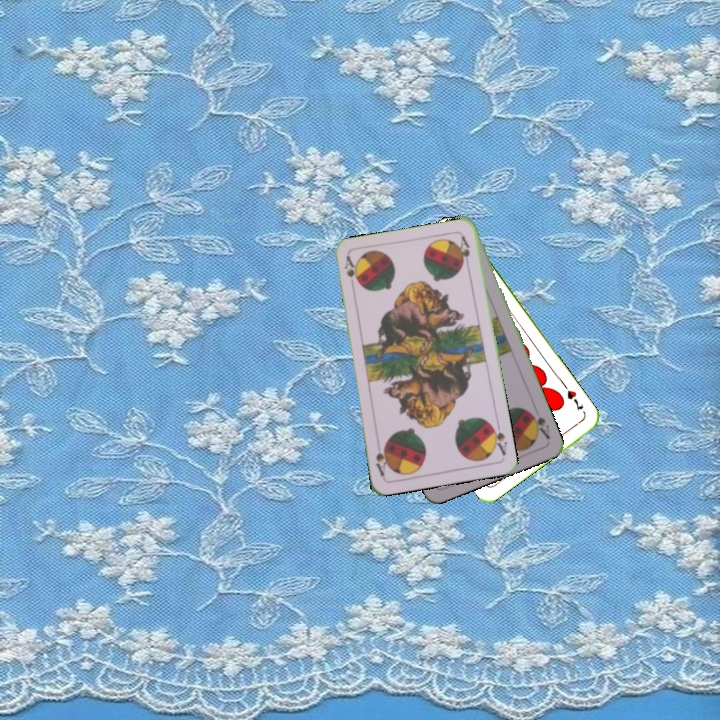H7: (560, 381, 586, 414)
SA: (486, 418, 510, 458), (525, 407, 552, 442), (340, 253, 359, 293)
